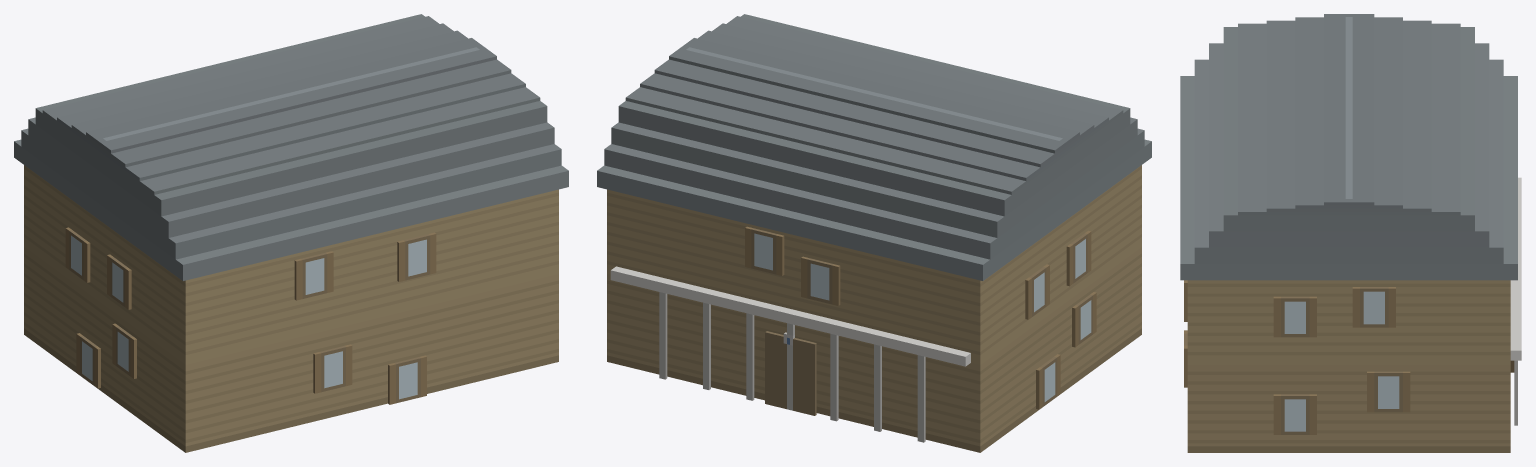
The model's file is casa_gremio_01.glb.
3 renders of one model, left to right at view 1: azimuth 30°, elevation 25°; view 2: azimuth 150°, elevation 25°; view 3: azimuth 270°, elevation 25°, orthographic.
Parts seen in each view (by area): view 1: casa_gremio_01; view 2: casa_gremio_01; view 3: casa_gremio_01.
Part boxes in pixels (left/top/right/bottom): casa_gremio_01: left=14, top=14, right=568, bottom=452; casa_gremio_01: left=597, top=14, right=1151, bottom=452; casa_gremio_01: left=1180, top=14, right=1521, bottom=452.
Bounding box in the file's own units: 12.4 × 7.8 × 9.5.
